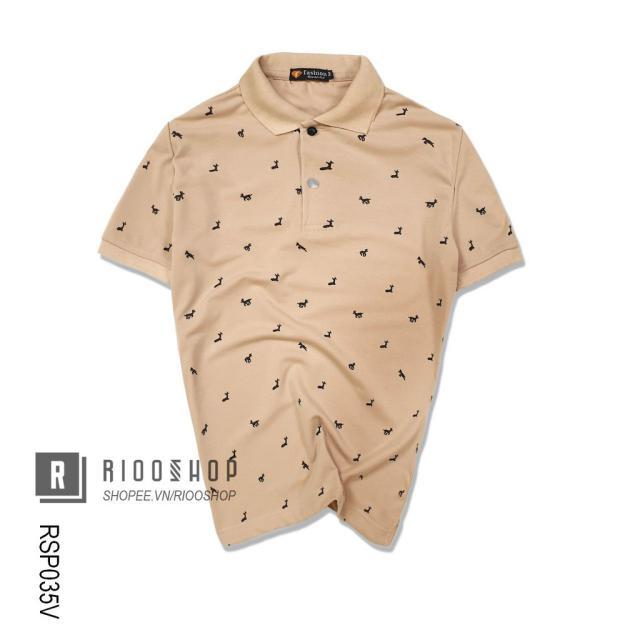Shirt: (99, 54, 529, 554)
